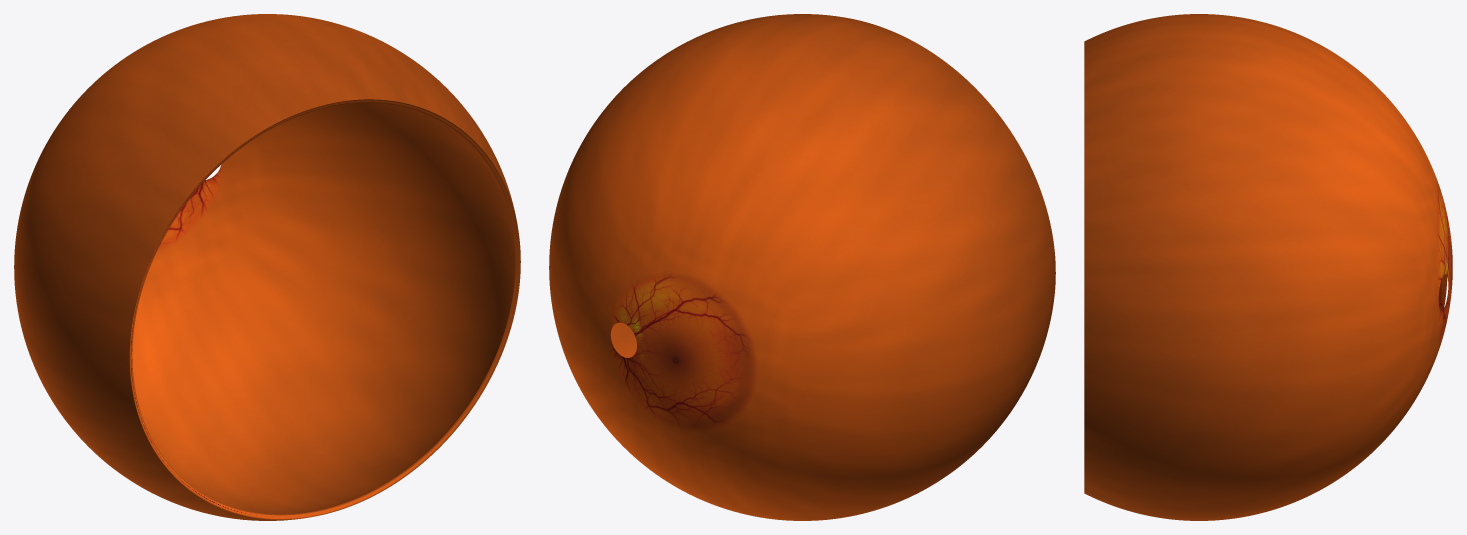
Rendered from retina.glb.
3 views of the same model, side by side, from view 1: azimuth 30°, elevation 25°; view 2: azimuth 150°, elevation 25°; view 3: azimuth 270°, elevation 25° (orthographic).
Parts seen in each view (by area): view 1: retina; view 2: retina; view 3: retina.
Boxes of the visible parts, x1,y1,x2,y2 form: retina: (14,14,520,520); retina: (549,14,1055,520); retina: (1084,14,1452,520).
Size of the model in its own units: 0.9252 by 0.9252 by 0.6726.
Materials: 1 (1 with a texture image).
